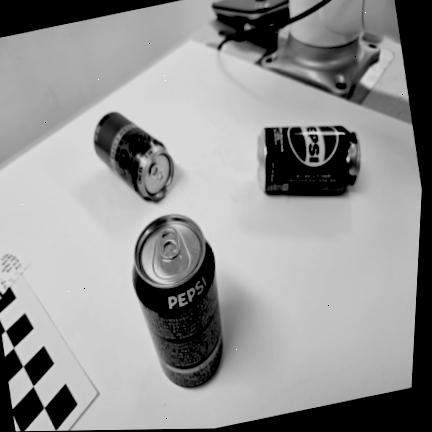can_coke_decaf: (95, 112, 173, 199)
can_pepsi: (132, 212, 225, 387)
can_pepsi_zero: (255, 125, 360, 193)
